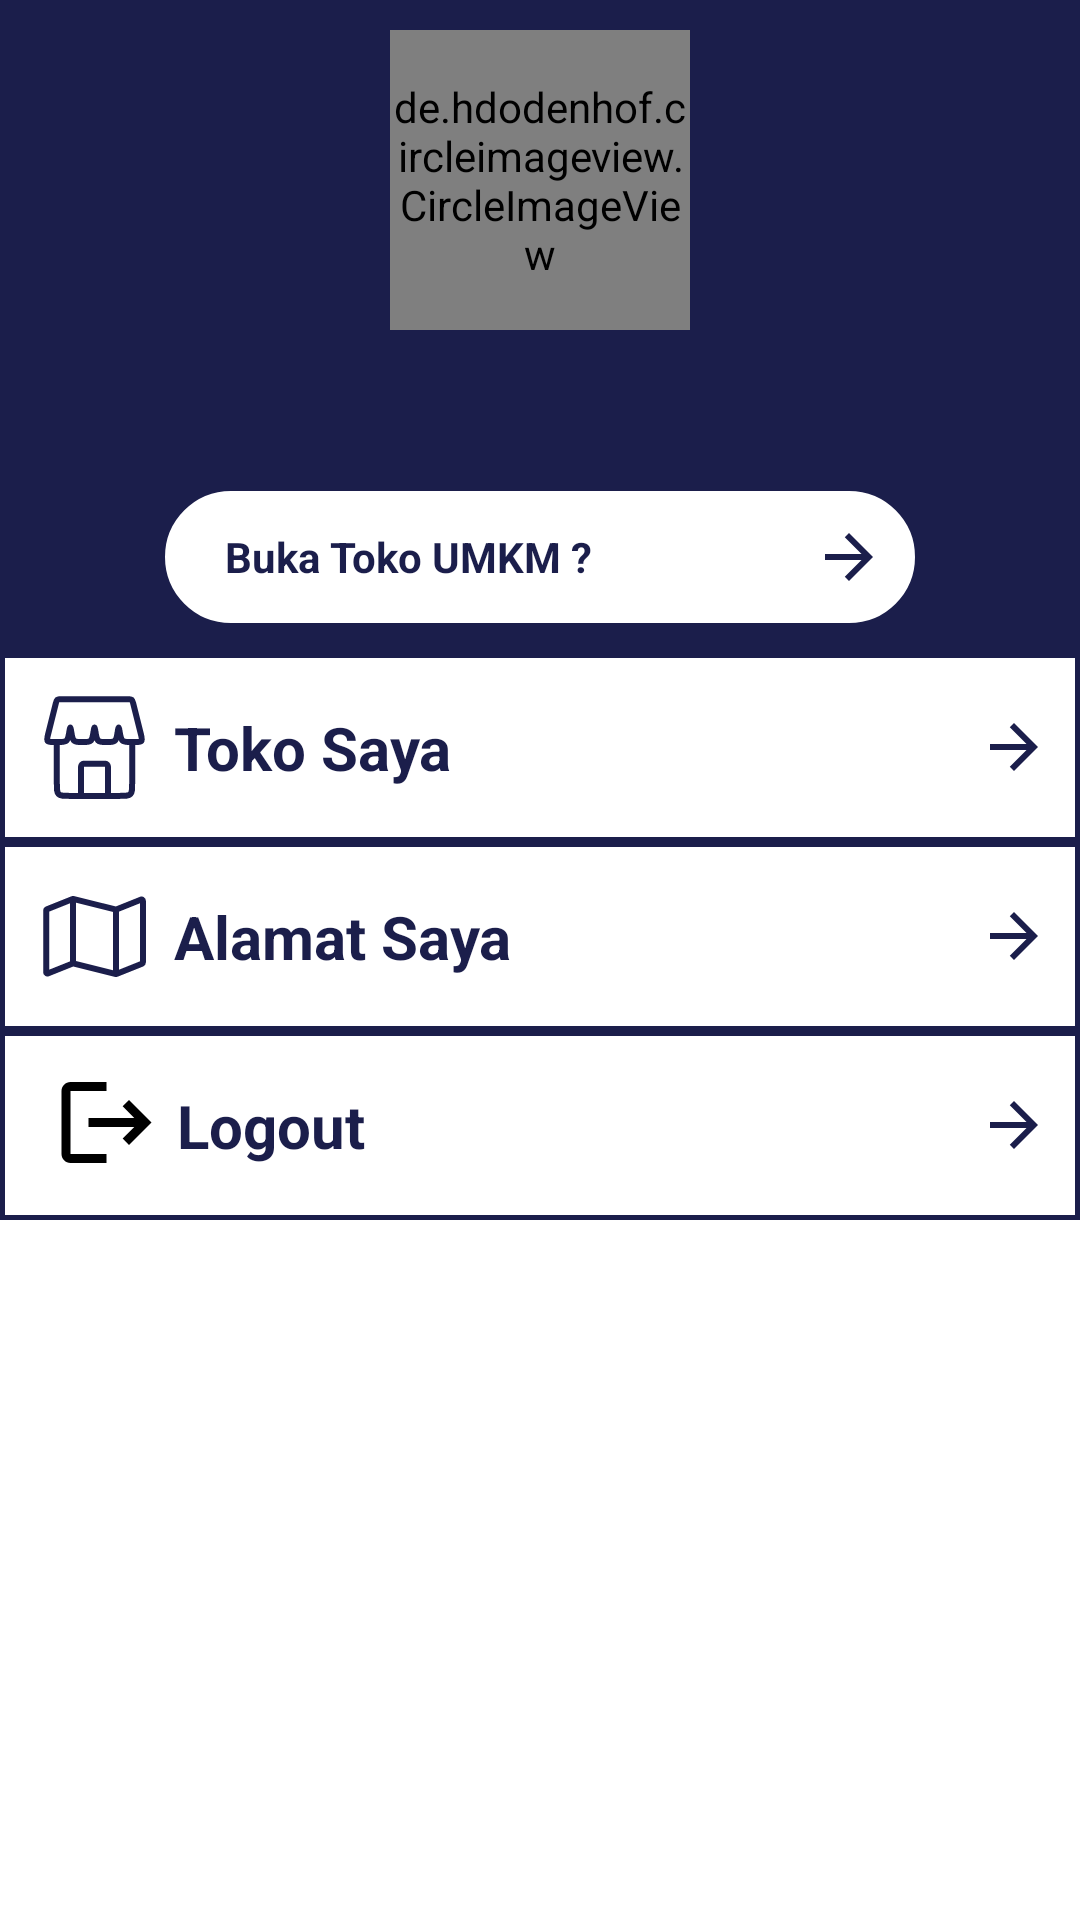

Icons on this 1080*1920 Android screen, each with the point to tap as point (x, y):
right arrow: point (849, 557)
